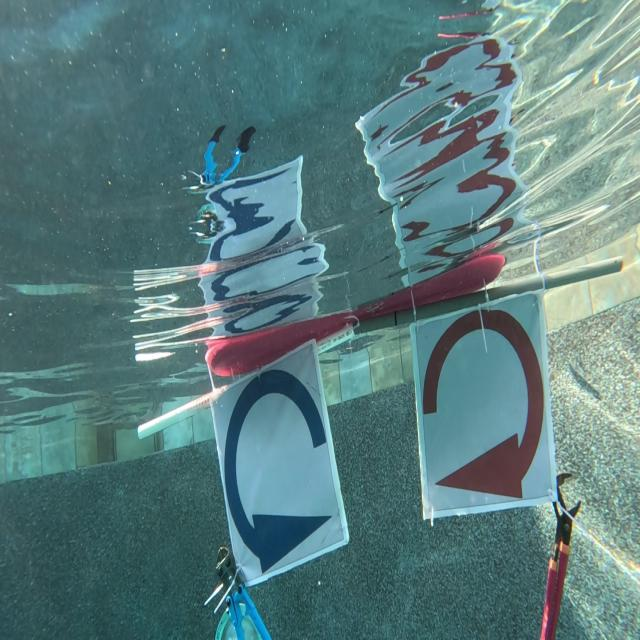blue_side: (222, 360, 332, 573)
red_side: (416, 300, 544, 508)
